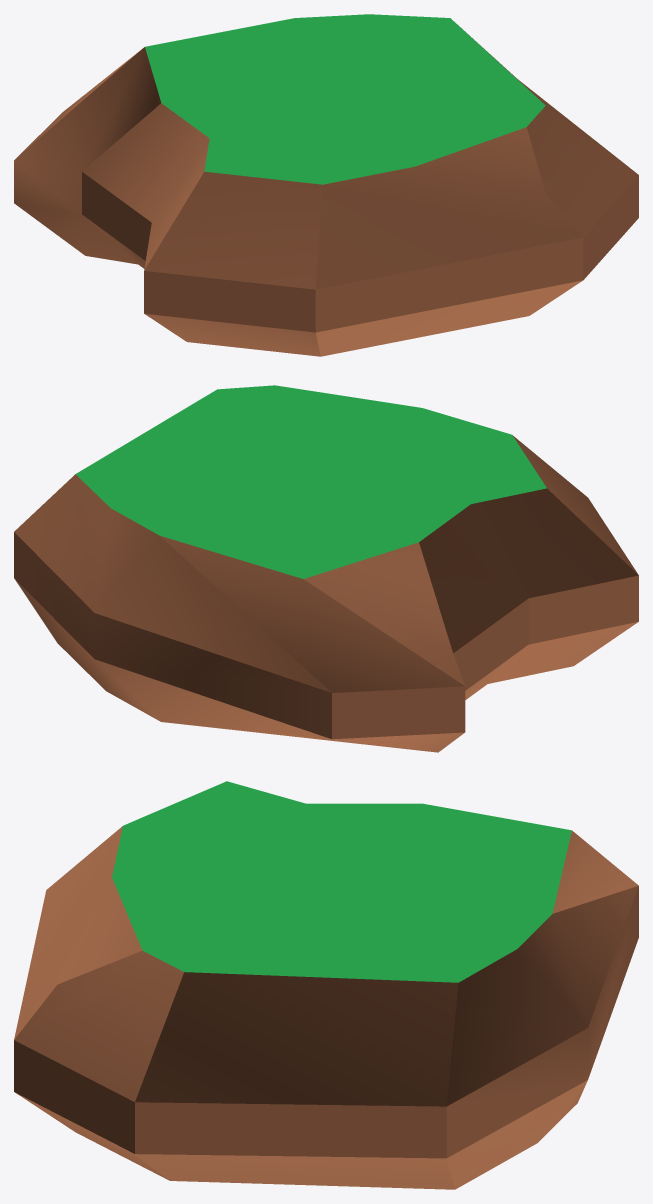
The model's file is Rock1_1.obj.
3 views of the same model, one above another, from view 1: azimuth 30°, elevation 25°; view 2: azimuth 150°, elevation 25°; view 3: azimuth 270°, elevation 25° (orthographic). The views are drawn at different scales.
Parts seen in each view (by area): view 1: rock_large1; view 2: rock_large1; view 3: rock_large1.
Boxes of the visible parts, x1=… form: rock_large1: x1=14, y1=14, x2=638, y2=356; rock_large1: x1=14, y1=385, x2=638, y2=752; rock_large1: x1=14, y1=781, x2=638, y2=1189.
Bounding box in the file's own units: 19.37 × 6.31 × 18.2.
Materials: 1 (1 with a texture image).
